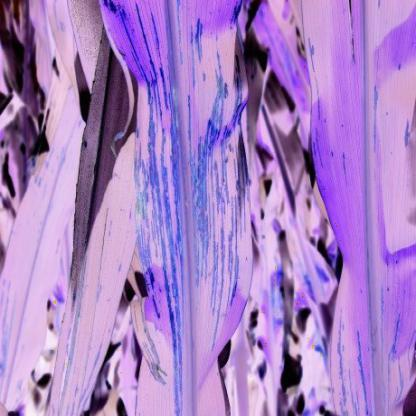Corn leaf blight: (102, 1, 262, 415), (298, 1, 414, 415), (53, 13, 133, 408), (6, 93, 82, 412)
